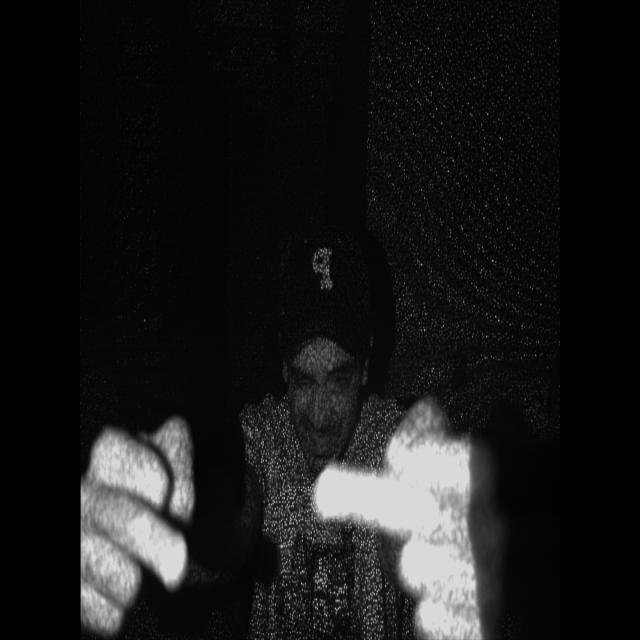FUCK YOU: (302, 371, 498, 640), (72, 397, 210, 640)
